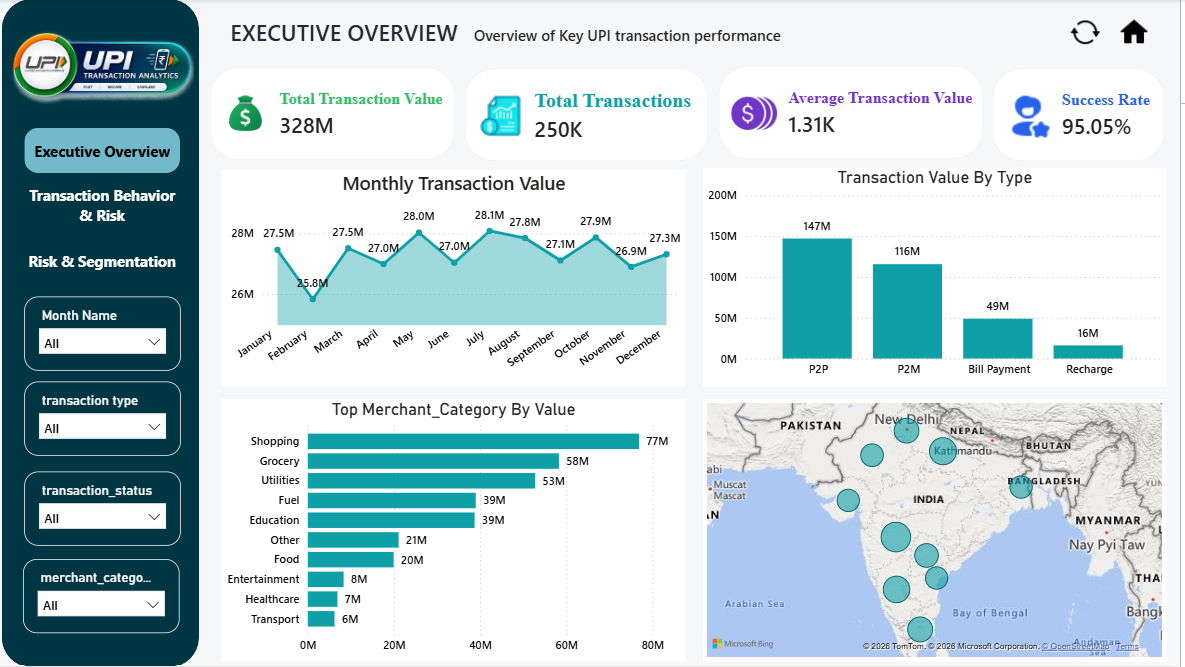

This screenshot's page, from the dashboard's own definition file:
{"tool":"powerbi","page":{"name":"Executive Overview","canvas":[1280,720],"ordinal":0},"visuals":[{"type":"shape","box":[9.5,0,212.7,720.7],"z":0},{"type":"image","box":[14.9,1.4,201.9,146.3],"z":0,"group":"g1"},{"type":"textbox","box":[250.6,0,1029.6,74.5],"z":1000},{"type":"pageNavigator","box":[33.9,138.2,168.8,167.4],"z":1000,"group":"g1"},{"type":"lineChart","title":"Monthly Transaction Value ","fields":{"Category":["upi_transactions_2024.Month Name"],"Y":["upi_transactions_2024.Total Transacation Value"]},"box":[246.6,184.3,500,233],"z":2000},{"type":"slicer","fields":{"Values":["upi_transactions_2024.Month Name"]},"box":[33.9,320.7,168.6,79.6],"z":2000,"group":"g1"},{"type":"columnChart","title":"Transaction Value By Type","fields":{"Category":["upi_transactions_2024.transaction type"],"Y":["upi_transactions_2024.Total Transacation Value"]},"box":[765.5,181.5,500,235.7],"z":3000},{"type":"slicer","fields":{"Values":["upi_transactions_2024.transaction type"]},"box":[33.9,412.6,168.6,79.6],"z":3000,"group":"g1"},{"type":"barChart","title":"Top Merchant Categories by Value","fields":{"Category":["upi_transactions_2024.merchant_category"],"Y":["upi_transactions_2024.Total Transacation Value"]},"box":[246.6,430.8,500,283.2],"z":4000},{"type":"slicer","fields":{"Values":["upi_transactions_2024.transaction_status"]},"box":[33.9,510.1,168.6,79.6],"z":4000,"group":"g1"},{"type":"actionButton","box":[1210.3,13.7,40,45],"z":5000},{"type":"slicer","fields":{"Values":["upi_transactions_2024.merchant_category"]},"box":[32.6,603.4,168.6,79.6],"z":5000,"group":"g1"},{"type":"actionButton","box":[1158.2,13.7,40,45],"z":6000},{"type":"group","id":"g1","title":"Group 1","box":[14.9,1.4,201.9,681.6],"z":7000},{"type":"cardVisual","fields":{"Data":["upi_transactions_2024.Total Transacation Value"]},"box":[216.8,56.9,298.1,134.1],"z":8000},{"type":"cardVisual","fields":{"Data":["upi_transactions_2024.Total Transacations"]},"box":[491.8,58.3,296.7,134],"z":9000},{"type":"cardVisual","fields":{"Data":["upi_transactions_2024.Success Rate"]},"box":[1060.8,58.3,219.5,134],"z":10000},{"type":"cardVisual","fields":{"Data":["upi_transactions_2024.Average Transaction Value"]},"box":[765.5,55.5,319.7,134.1],"z":11000},{"type":"map","title":"Transaction Value by State","fields":{"Category":["upi_transactions_2024.sender_state"],"Size":["upi_transactions_2024.Total Transaction Value"]},"box":[765.5,431.3,500,283],"z":12000}]}

Visuals, with their boxes in screenshot pixels (x1, y1, x2, y2), scaled from the page's 1280x720 canvas onto the 1185x667 screenshot:
shape: bbox(9, 0, 206, 666)
image: bbox(14, 1, 201, 137)
textbox: bbox(232, 0, 1184, 69)
pageNavigator: bbox(31, 128, 188, 283)
"Monthly Transaction Value " lineChart: bbox(228, 171, 691, 387)
slicer - upi_transactions_2024.Month Name: bbox(31, 297, 187, 371)
"Transaction Value By Type" columnChart: bbox(709, 168, 1172, 386)
slicer - upi_transactions_2024.transaction type: bbox(31, 382, 187, 456)
"Top Merchant Categories by Value" barChart: bbox(228, 399, 691, 661)
slicer - upi_transactions_2024.transaction_status: bbox(31, 473, 187, 546)
actionButton: bbox(1120, 13, 1158, 54)
slicer - upi_transactions_2024.merchant_category: bbox(30, 559, 186, 633)
actionButton: bbox(1072, 13, 1109, 54)
"Group 1" group: bbox(14, 1, 201, 633)
cardVisual - upi_transactions_2024.Total Transacation Value: bbox(201, 53, 477, 177)
cardVisual - upi_transactions_2024.Total Transacations: bbox(455, 54, 730, 178)
cardVisual - upi_transactions_2024.Success Rate: bbox(982, 54, 1184, 178)
cardVisual - upi_transactions_2024.Average Transaction Value: bbox(709, 51, 1005, 176)
"Transaction Value by State" map: bbox(709, 400, 1172, 662)
